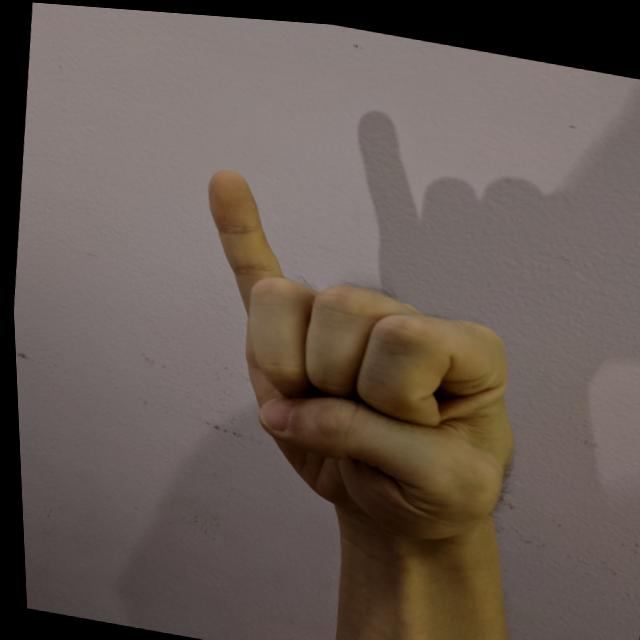I: (166, 154, 546, 552)
